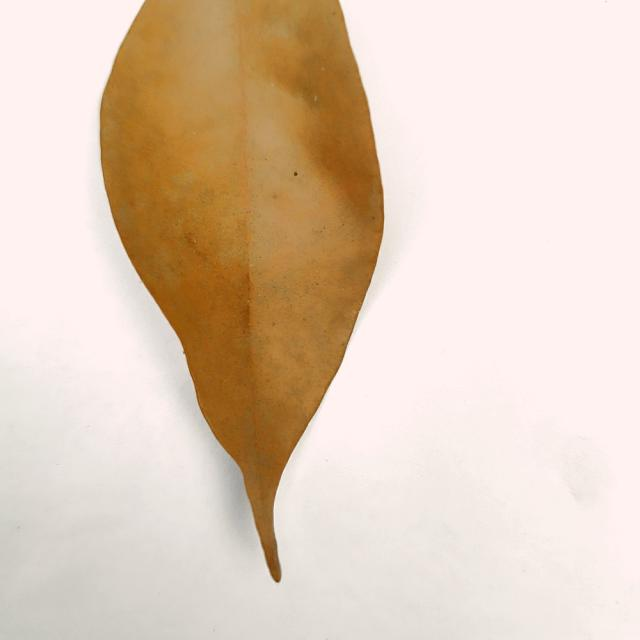Dry_Leaf-Lychee: (99, 0, 386, 585)
